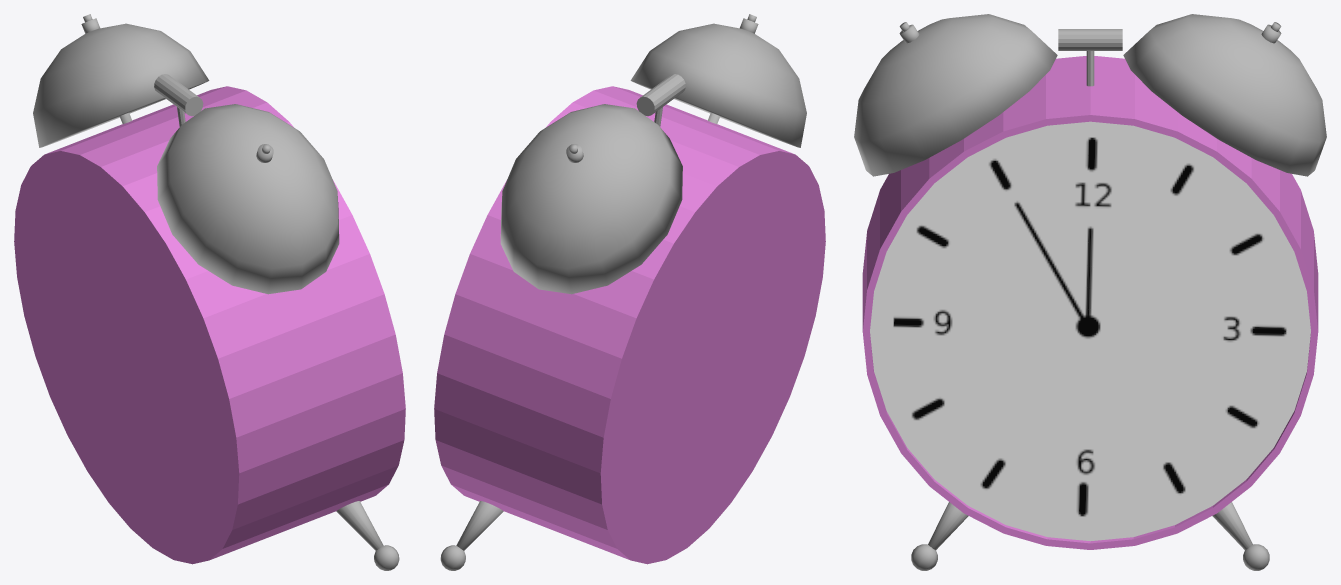
The model's file is Alarm_clock.fbx.
The picture shows the model from 3 angles, left to right: view 1: azimuth 30°, elevation 25°; view 2: azimuth 150°, elevation 25°; view 3: azimuth 270°, elevation 25°; orthographic projection. The views are drawn at different scales.
Visible parts, largest first — view 1: 실린더; view 2: 실린더; view 3: 실린더.
Part boxes in pixels (x1,y1,x2,y2): 실린더: (14, 14, 405, 570); 실린더: (434, 14, 825, 570); 실린더: (854, 14, 1326, 570).
Bounding box in the file's own units: 1.21 × 2.47 × 2.18.
